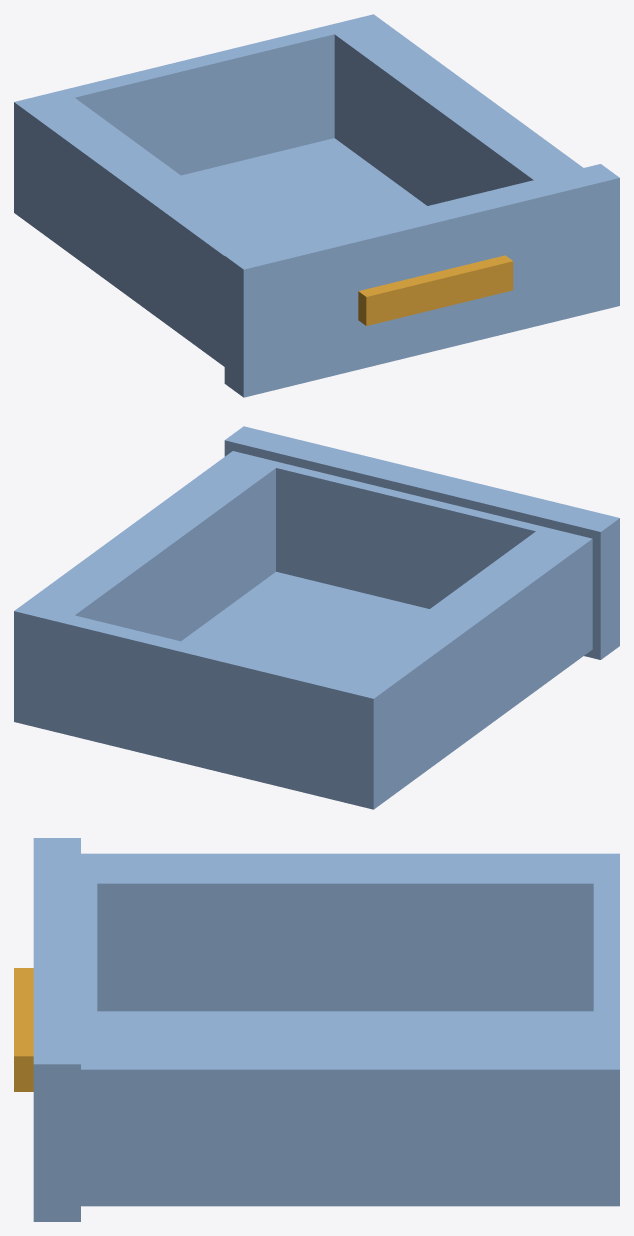
The model's file is cupboard_drawer.fbx.
The picture shows the model from 3 angles, top to bottom: view 1: azimuth 30°, elevation 25°; view 2: azimuth 150°, elevation 25°; view 3: azimuth 270°, elevation 25°; orthographic projection. The views are drawn at different scales.
Visible parts, largest first — view 1: Cube.008; view 2: Cube.008; view 3: Cube.008.
Part boxes in pixels (x1,y1,x2,y2): Cube.008: (14,14,619,397); Cube.008: (14,426,619,809); Cube.008: (14,838,619,1221).
Bounding box in the file's own units: 172 × 55.97 × 195.
